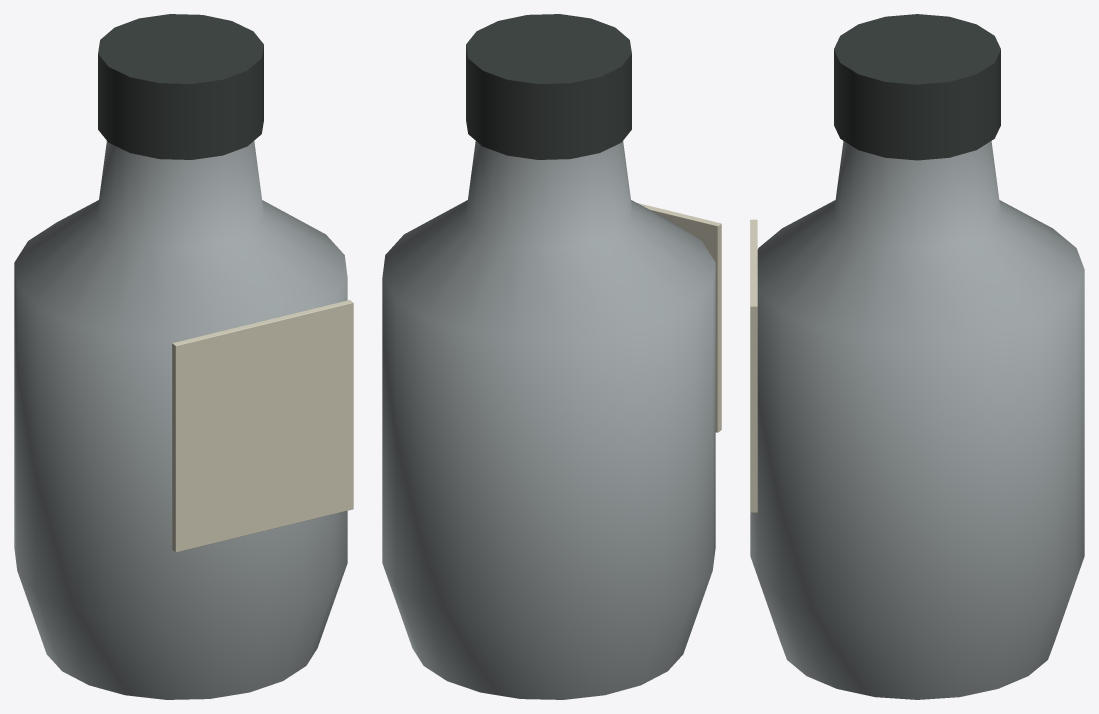
File: scavengers-loot-library-solvent-bottle-6902f8b3__2621.glb
3 views of the same model, side by side, from view 1: azimuth 30°, elevation 25°; view 2: azimuth 150°, elevation 25°; view 3: azimuth 270°, elevation 25° (orthographic).
Parts seen in each view (by area): view 1: solvent-bottle; view 2: solvent-bottle; view 3: solvent-bottle.
Boxes of the visible parts, left/top/right/bottom form: solvent-bottle: left=14, top=14, right=353, bottom=699; solvent-bottle: left=382, top=14, right=721, bottom=699; solvent-bottle: left=750, top=14, right=1084, bottom=699.
Size of the model in its own units: 0.088 by 0.172 by 0.088.
